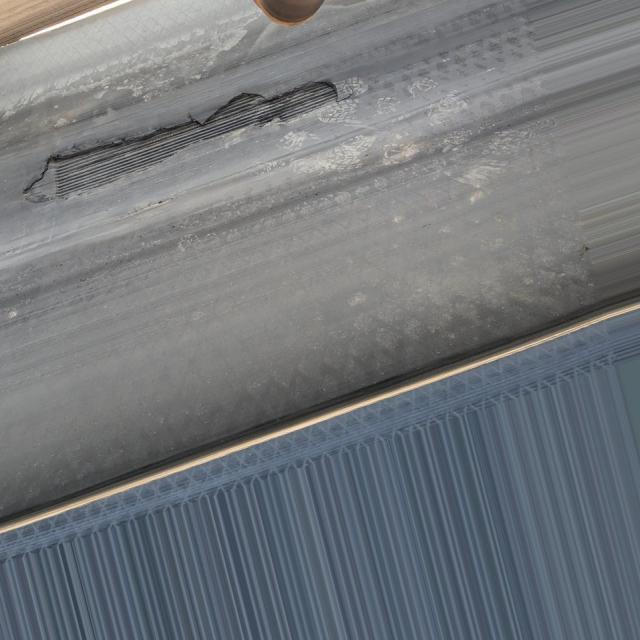Roller: (249, 0, 327, 24)
Tear: (15, 53, 357, 218)
